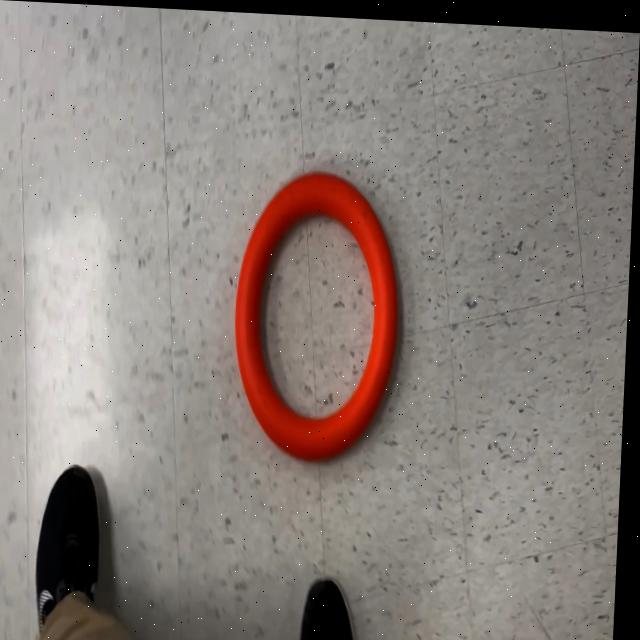note: (231, 166, 408, 465)
